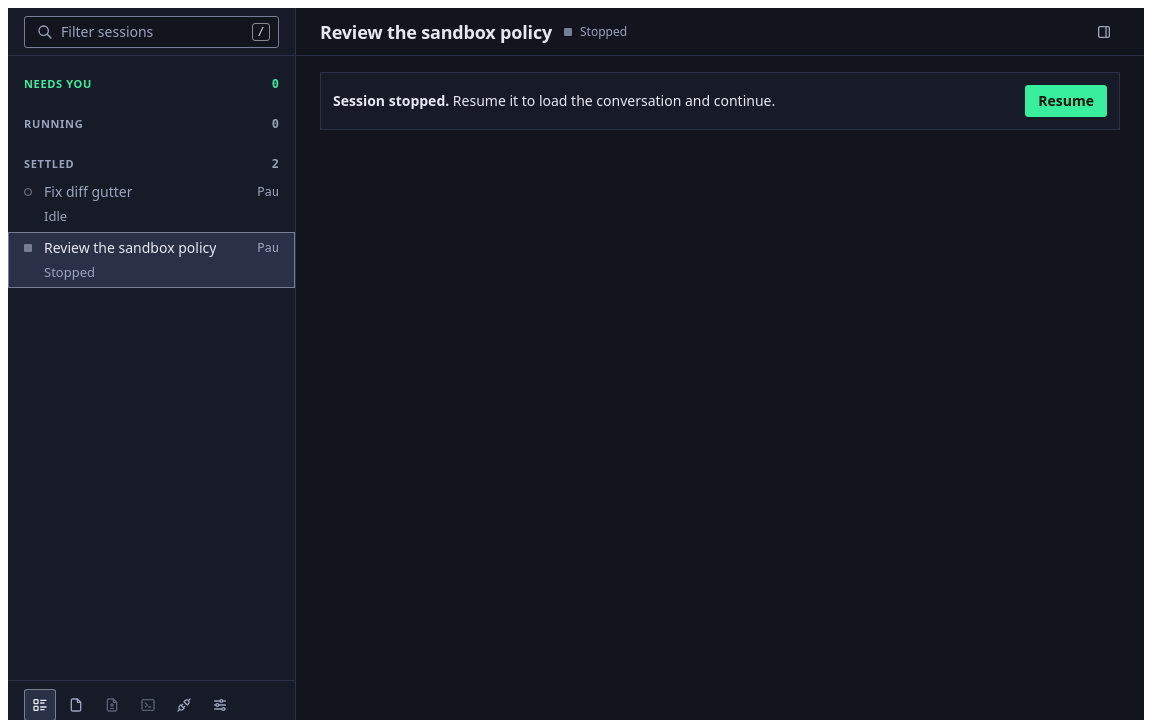
Test case: offers Resume for a restored session and explains a failed resume
Expected: the heading "Review the sandbox policy" is shown, [320,14,552,50]
Click the button "Resume": click(1066, 101) [1025,85,1107,117]
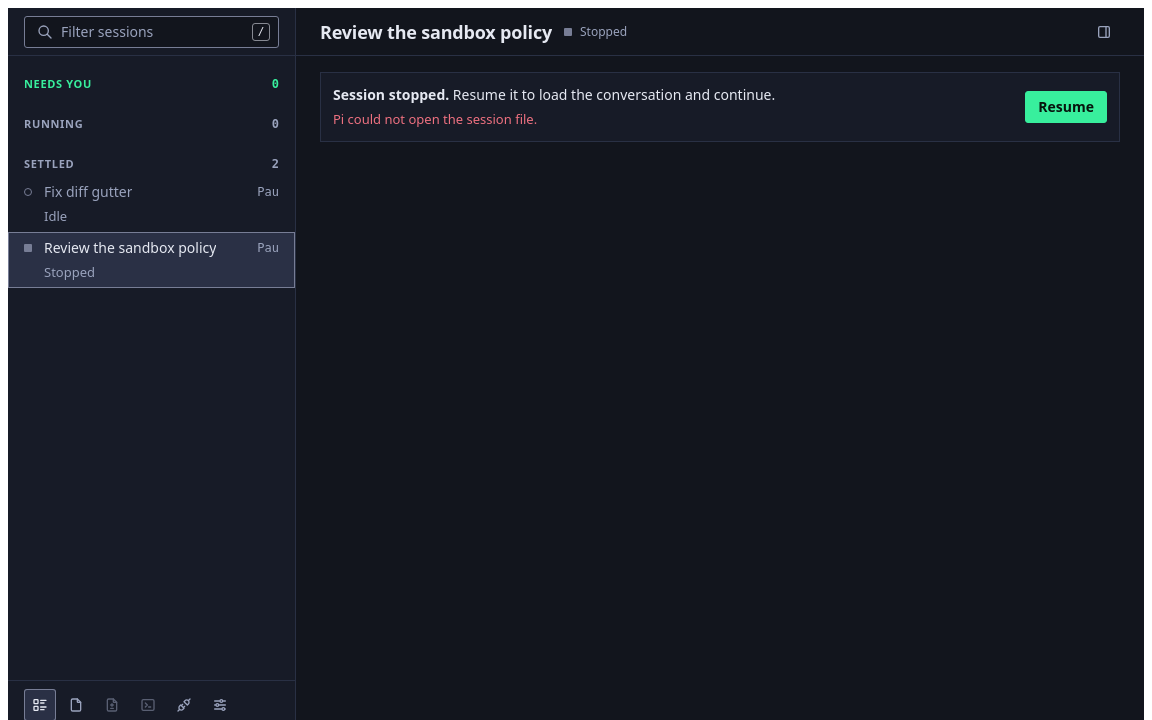
Expected: the message "Pi could not open the session file." is shown, [333,110,537,128]
